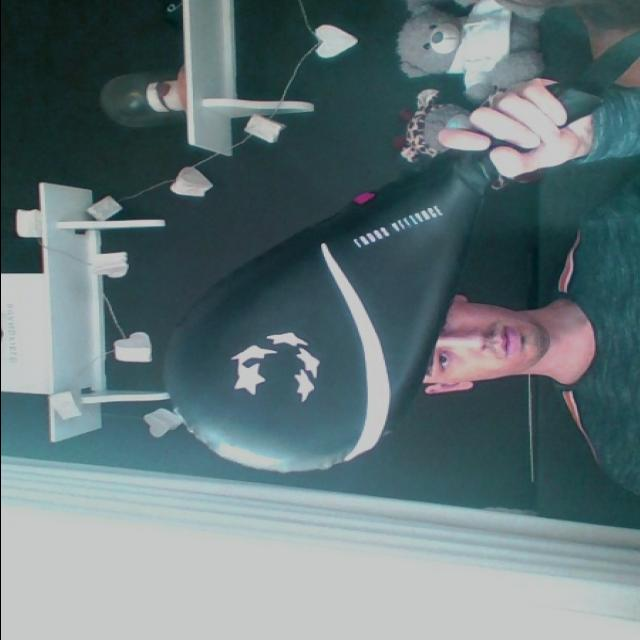paddle: (156, 150, 490, 479)
